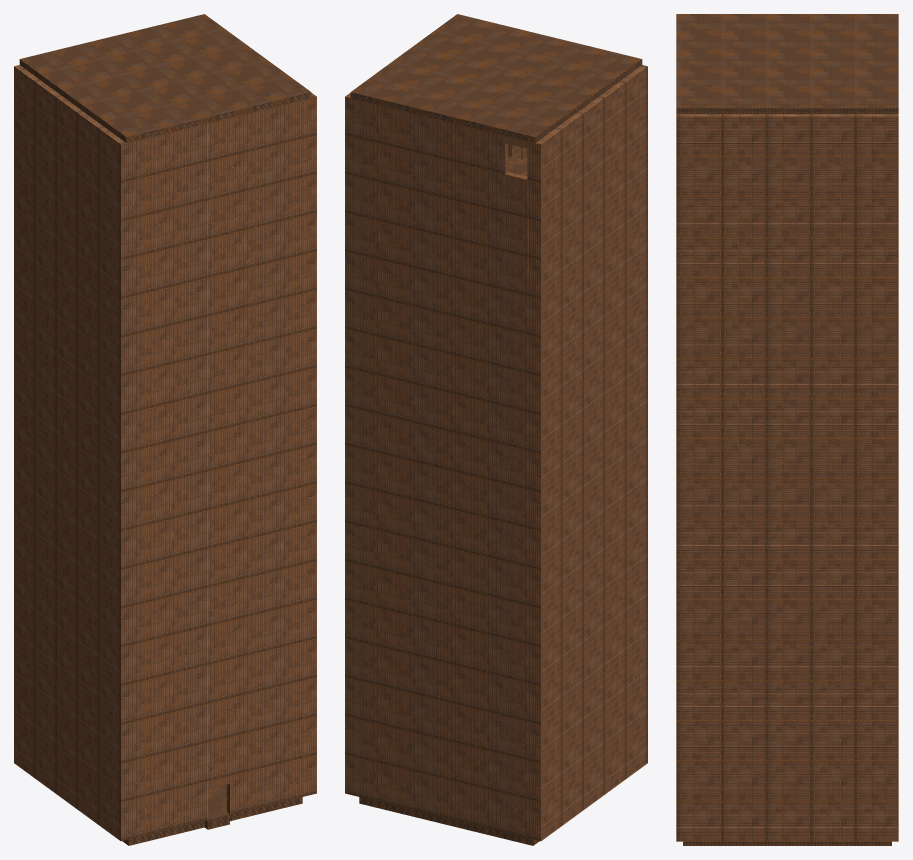
File: shell_plenum_helix.glb
3 renders of one model, left to right at view 1: azimuth 30°, elevation 25°; view 2: azimuth 150°, elevation 25°; view 3: azimuth 270°, elevation 25°, orthographic. The views are drawn at different scales.
Parts seen in each view (by area): view 1: pl; view 2: pl; view 3: pl.
Part boxes in pixels (x1,y1,x2,y2): pl: [14, 14, 316, 845]; pl: [345, 14, 647, 845]; pl: [676, 14, 898, 845].
Size of what is drawn, in the model's own units: 21.2 by 73.6 by 20.
118 materials, 118 textured.
